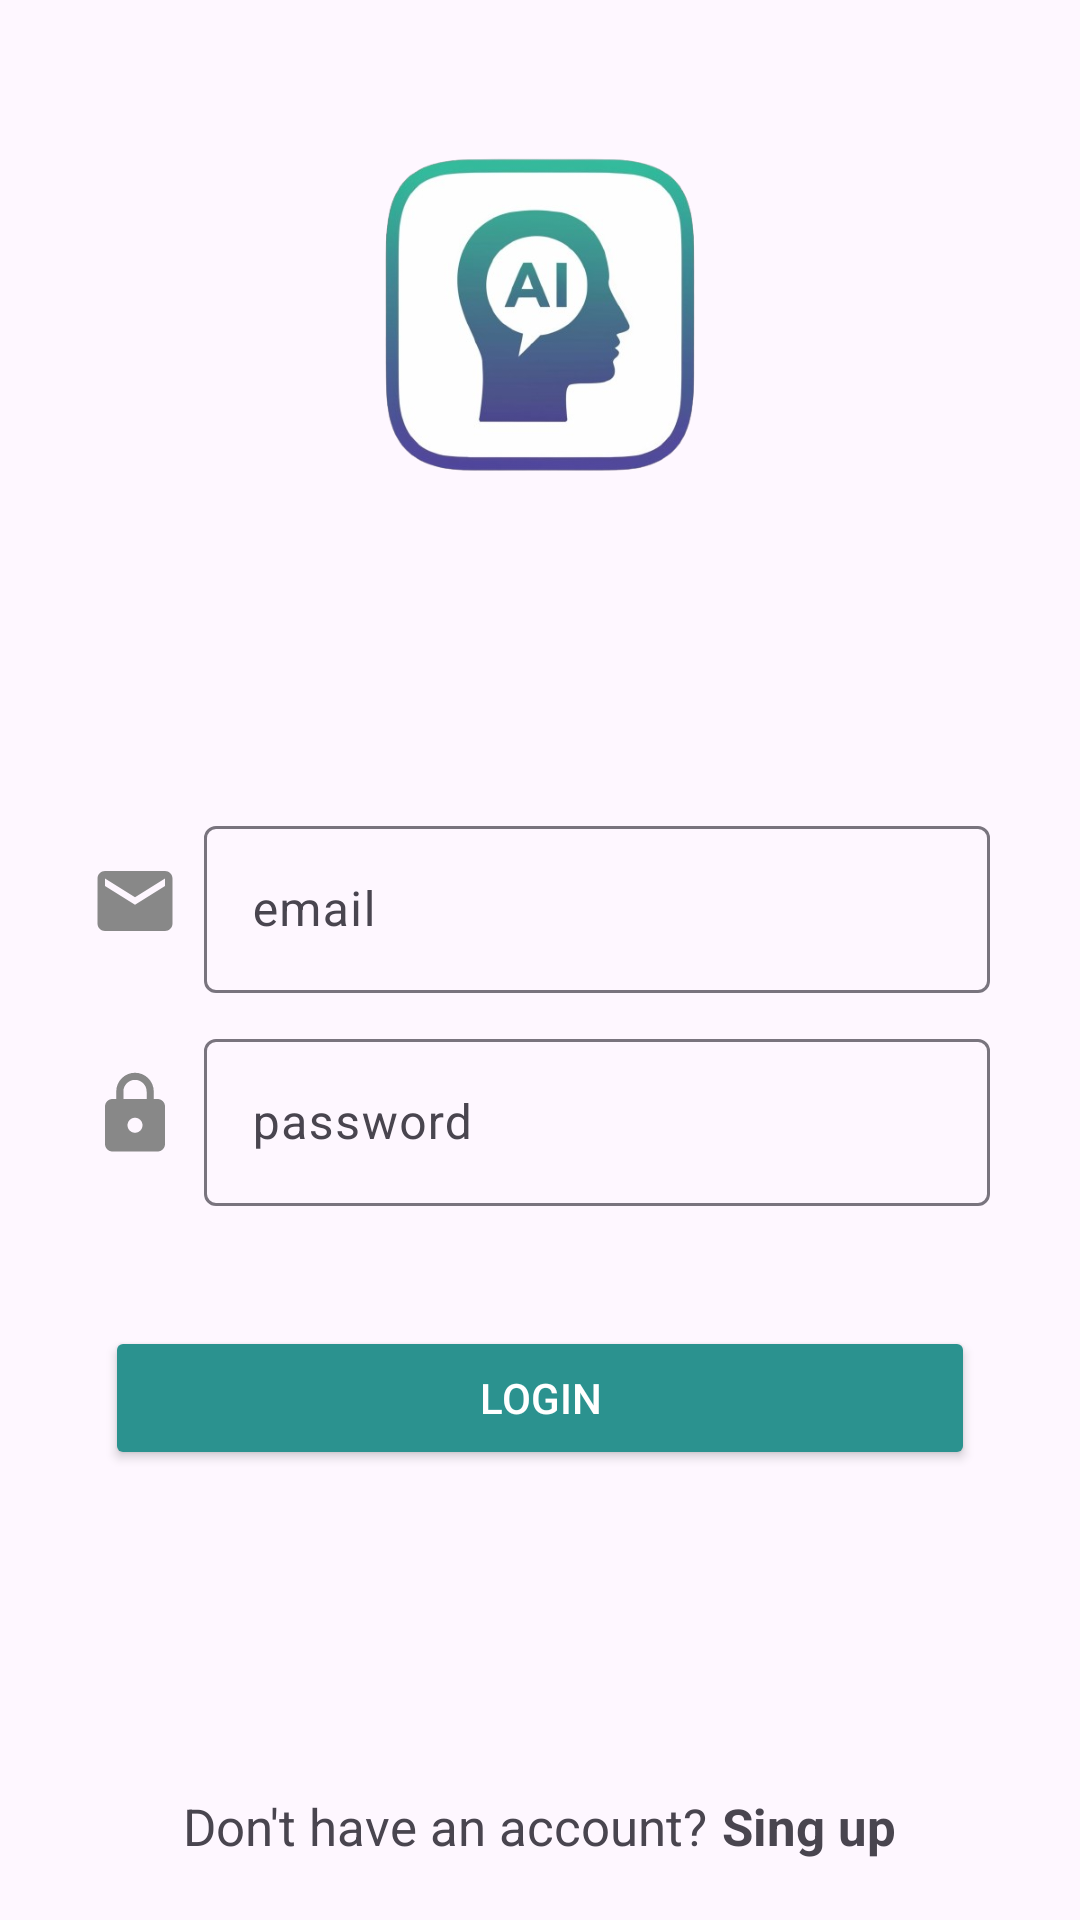

Point at icon controls on the screen. Image size 1080 x 1920, points as (x=x, y=y).
app: (x=539, y=315)
lock: (x=135, y=1112)
